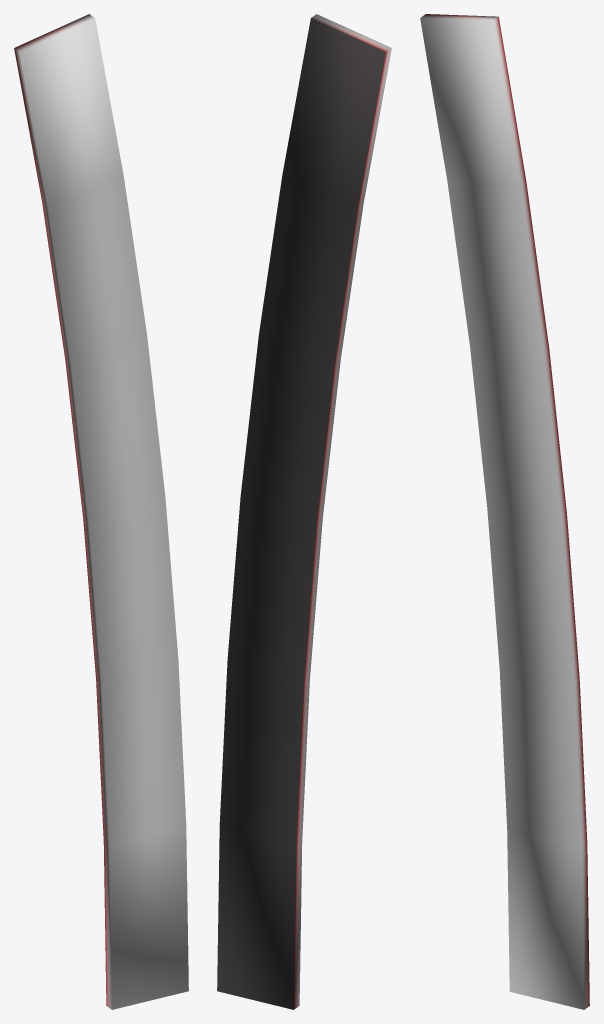
Rendered from Rails_20m_11_25d_Collider.fbx.
3 views of the same model, side by side, from view 1: azimuth 30°, elevation 25°; view 2: azimuth 150°, elevation 25°; view 3: azimuth 330°, elevation 25° (orthographic). The views are drawn at different scales.
Visible parts, largest first — view 1: LP_Rails_20m_11_25d_Collider; view 2: LP_Rails_20m_11_25d_Collider; view 3: LP_Rails_20m_11_25d_Collider.
Part boxes in pixels (left/top/right/bottom): LP_Rails_20m_11_25d_Collider: left=14, top=14, right=188, bottom=1009; LP_Rails_20m_11_25d_Collider: left=217, top=14, right=391, bottom=1009; LP_Rails_20m_11_25d_Collider: left=420, top=14, right=589, bottom=1009.
Size of the model in its own units: 3.56 by 20.03 by 0.21.
